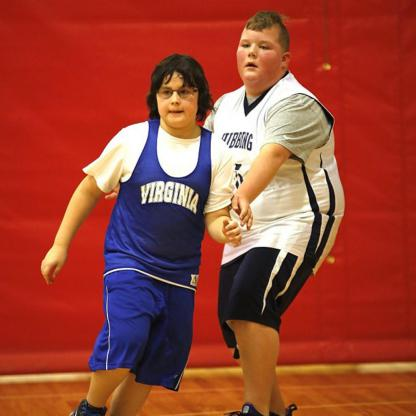face: (237, 20, 284, 83), (157, 65, 201, 129)
